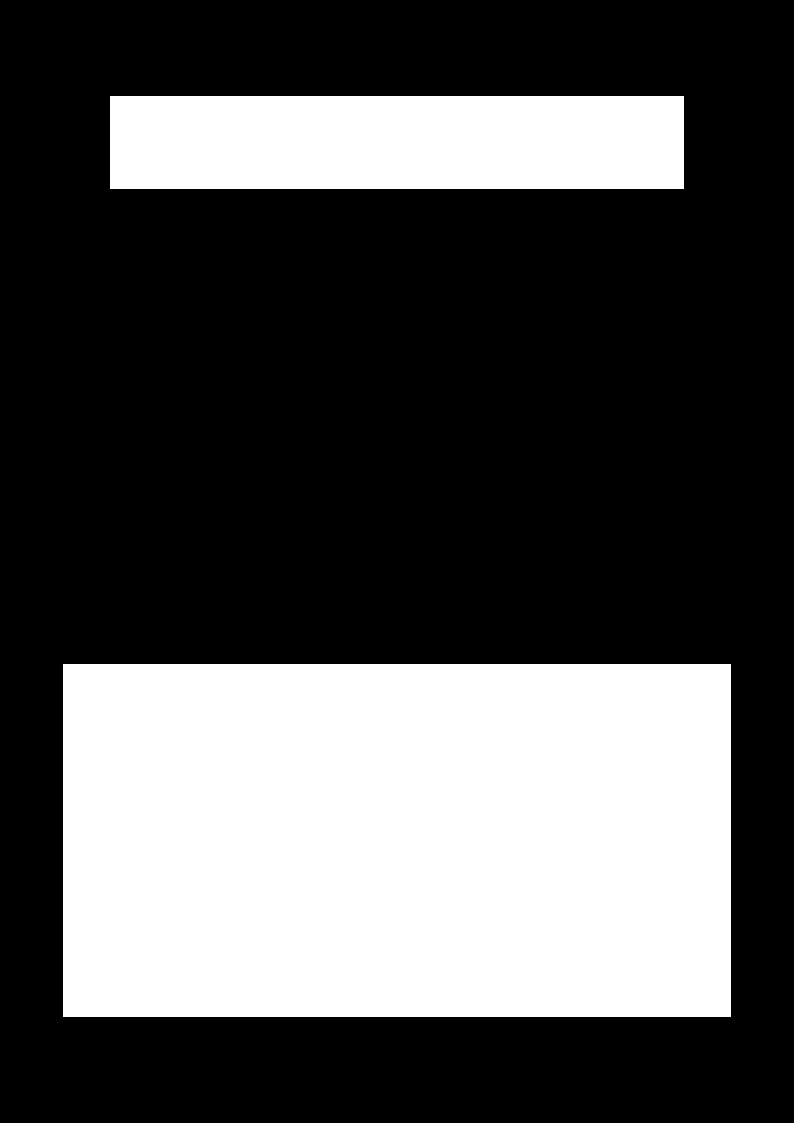table: (63, 664, 730, 1016), (110, 96, 683, 188)
